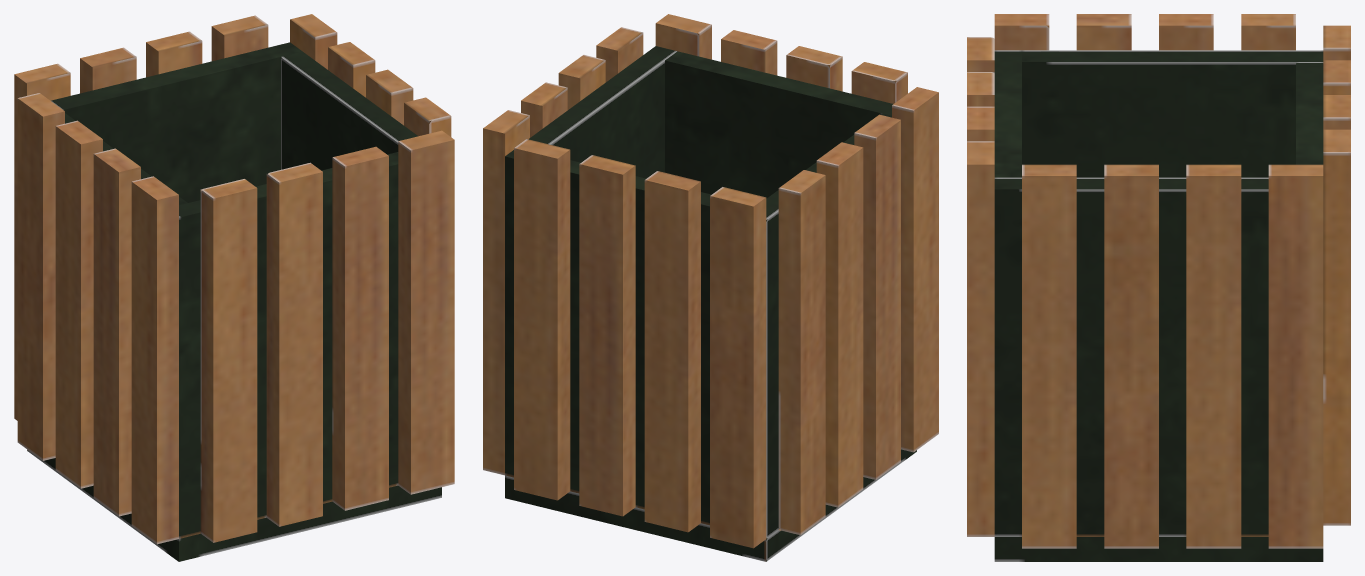
Rendered from park_trash_can.obj.
3 views of the same model, side by side, from view 1: azimuth 30°, elevation 25°; view 2: azimuth 150°, elevation 25°; view 3: azimuth 270°, elevation 25° (orthographic). The views are drawn at different scales.
Parts seen in each view (by area): view 1: Shape3, Shape6, Shape8, Shape9, Shape7, Shape5, Shape21, Shape19, Shape20, Shape18, Shape4, Shape1 (+8 smaller); view 2: Shape5, Shape15, Shape16, Shape17, Shape14, Shape18, Shape19, Shape20, Shape21, Shape3, Shape4, Shape13 (+9 smaller); view 3: Shape4, Shape2, Shape12, Shape13, Shape10, Shape11, Shape14, Shape9, Shape1, Shape5, Shape3, Shape20 (+9 smaller).
Part boxes in pixels (bbox=[...]): Shape3: bbox=[51, 42, 302, 202]; Shape6: bbox=[200, 179, 257, 542]; Shape8: bbox=[332, 146, 388, 510]; Shape9: bbox=[398, 130, 454, 494]; Shape7: bbox=[266, 162, 322, 526]; Shape5: bbox=[179, 152, 398, 538]; Shape21: bbox=[131, 176, 178, 544]; Shape19: bbox=[55, 120, 102, 488]; Shape20: bbox=[93, 148, 140, 516]; Shape18: bbox=[17, 93, 64, 460]; Shape4: bbox=[281, 51, 417, 170]; Shape1: bbox=[27, 449, 441, 561]; Shape5: bbox=[665, 51, 893, 198]; Shape15: bbox=[579, 155, 635, 516]; Shape16: bbox=[644, 171, 700, 532]; Shape17: bbox=[710, 187, 766, 548]; Shape14: bbox=[514, 139, 570, 500]; Shape18: bbox=[778, 170, 825, 535]; Shape19: bbox=[816, 142, 863, 507]; Shape20: bbox=[854, 114, 900, 479]; Shape21: bbox=[892, 87, 938, 452]; Shape3: bbox=[505, 150, 711, 525]; Shape4: bbox=[529, 46, 676, 178]; Shape13: bbox=[483, 110, 529, 475]; Shape4: bbox=[994, 177, 1268, 536]; Shape2: bbox=[1022, 50, 1323, 177]; Shape12: bbox=[1186, 164, 1241, 548]; Shape13: bbox=[1268, 164, 1323, 548]; Shape10: bbox=[1022, 164, 1076, 548]; Shape11: bbox=[1104, 164, 1158, 548]; Shape14: bbox=[1323, 129, 1350, 525]; Shape9: bbox=[967, 141, 994, 536]; Shape1: bbox=[994, 537, 1323, 561]; Shape5: bbox=[994, 50, 1021, 177]; Shape3: bbox=[1296, 62, 1323, 164]; Shape20: bbox=[1076, 14, 1131, 50].
Size of the model in its own units: 0.875 by 1 by 0.875.
